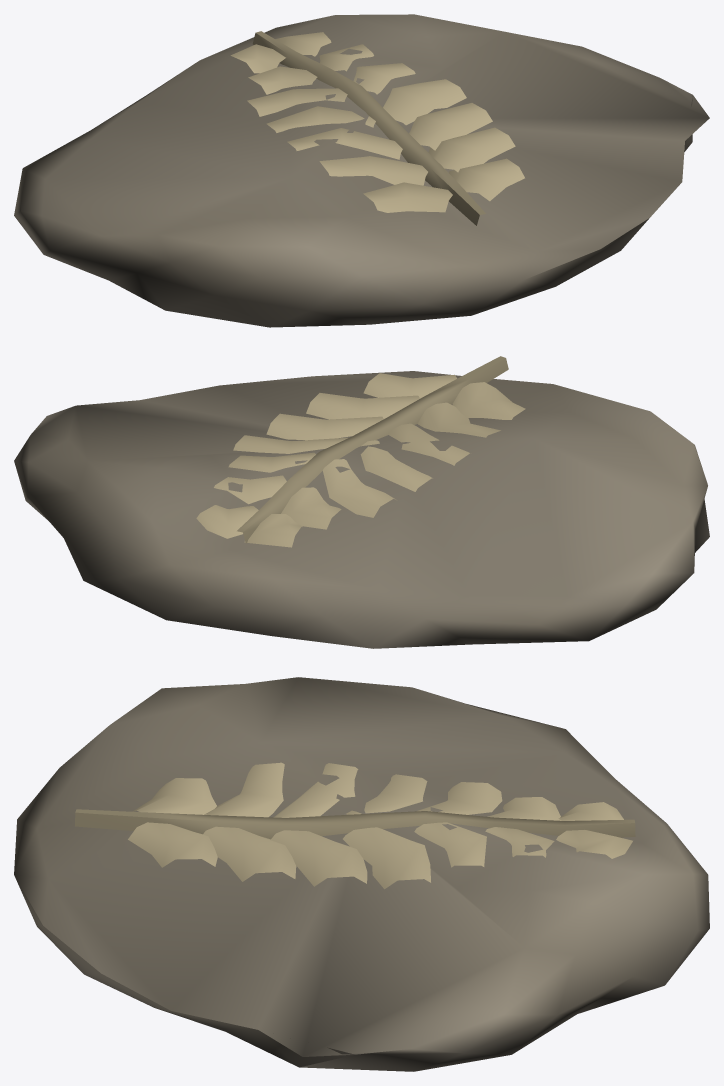
The model's file is cave-fossil-v2.glb.
The picture shows the model from 3 angles, top to bottom: view 1: azimuth 30°, elevation 25°; view 2: azimuth 150°, elevation 25°; view 3: azimuth 270°, elevation 25°; orthographic projection. The views are drawn at different scales.
Parts seen in each view (by area): view 1: 0_fossil; view 2: 0_fossil; view 3: 0_fossil.
Part boxes in pixels (x1=…): 0_fossil: x1=14, y1=14, x2=709, y2=327; 0_fossil: x1=14, y1=356, x2=709, y2=648; 0_fossil: x1=14, y1=677, x2=709, y2=1071.
Size of the model in its own units: 0.4925 by 0.0612 by 0.4019.
